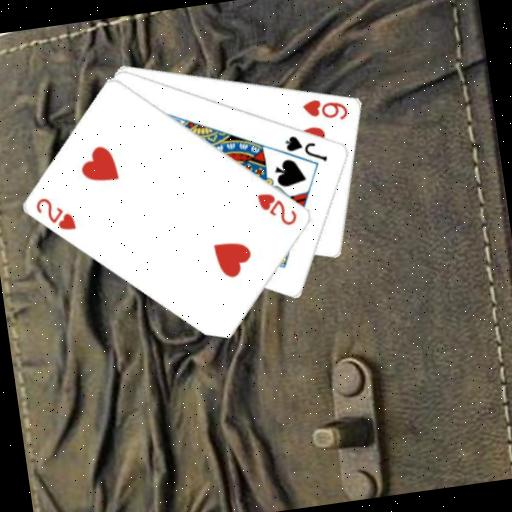2H: (32, 191, 80, 237), (254, 185, 301, 231)
6H: (298, 91, 351, 127)
JS: (282, 128, 331, 169)
